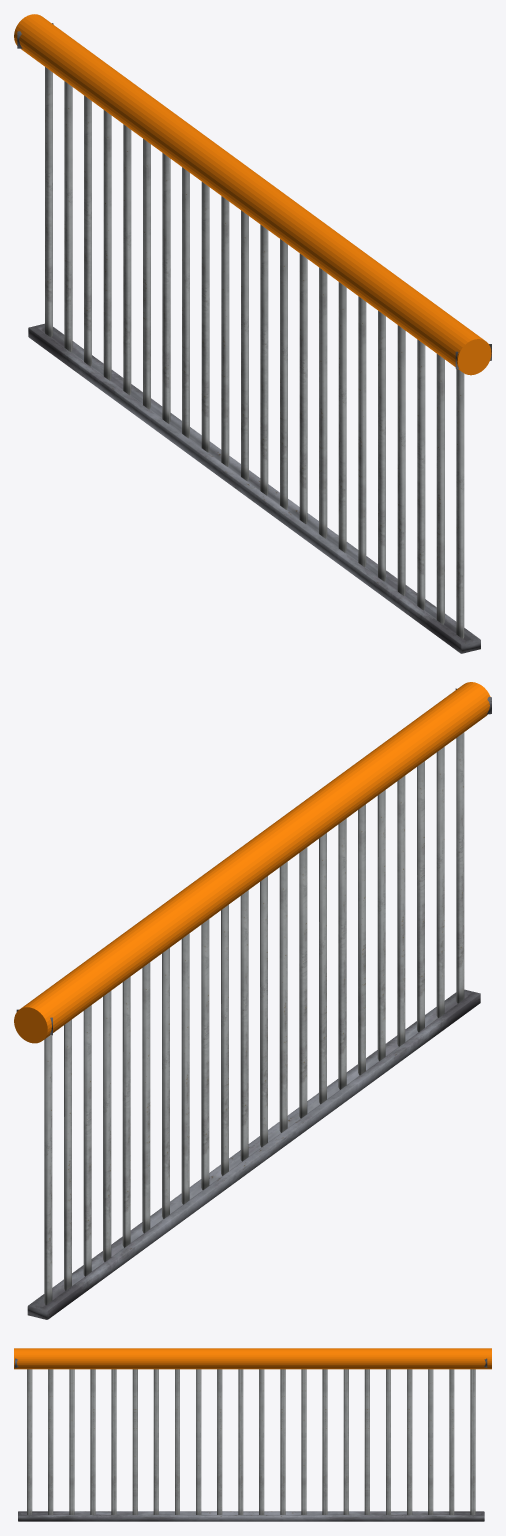
File: flybar2.glb
3 views of the same model, one above another, from view 1: azimuth 30°, elevation 25°; view 2: azimuth 150°, elevation 25°; view 3: azimuth 270°, elevation 25° (orthographic). The views are drawn at different scales.
Parts seen in each view (by area): view 1: defaultMaterial.001, 柱体; view 2: defaultMaterial.001, 柱体; view 3: defaultMaterial.001, 柱体.
Boxes of the visible parts, x1,y1,x2,y2 form: defaultMaterial.001: (17, 23, 491, 653); 柱体: (14, 14, 491, 375); defaultMaterial.001: (16, 688, 491, 1319); 柱体: (14, 682, 490, 1043); defaultMaterial.001: (15, 1358, 487, 1521); 柱体: (14, 1348, 491, 1369).
Bounding box in the file's own units: 2.15 × 17.95 × 45.78.
Materials: 2 (1 with a texture image).
